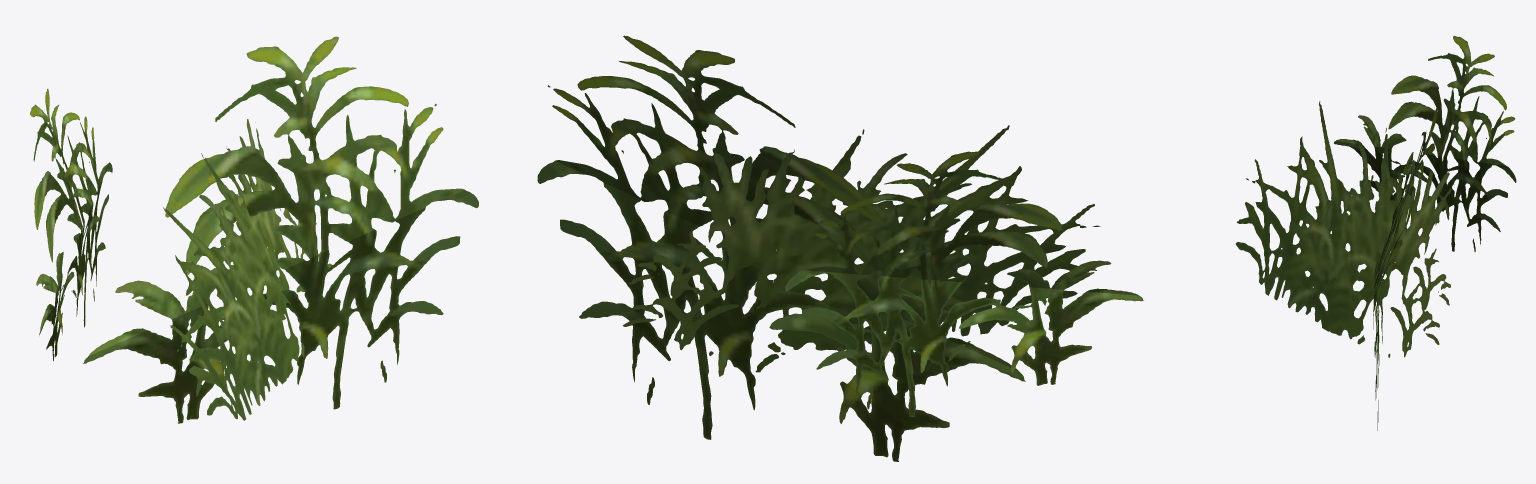
The picture shows the model from 3 angles, left to right: view 1: azimuth 30°, elevation 25°; view 2: azimuth 150°, elevation 25°; view 3: azimuth 270°, elevation 25°; orthographic projection. The views are drawn at different scales.
Parts seen in each view (by area): view 1: mesh_20; view 2: mesh_20; view 3: mesh_20.
Boxes of the visible parts, x1=… form: mesh_20: x1=30, y1=36, x2=478, y2=423; mesh_20: x1=537, y1=35, x2=1143, y2=461; mesh_20: x1=1235, y1=36, x2=1516, y2=430.
Size of the model in its own units: 1.24 by 0.9147 by 0.8651.
